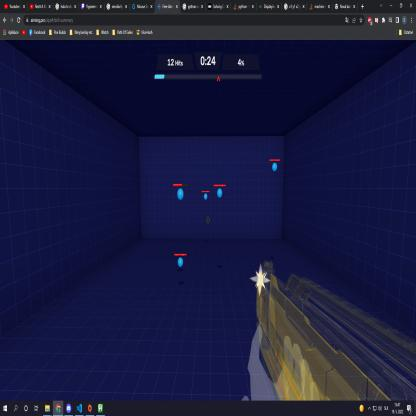sphere: (177, 188, 184, 200), (177, 257, 184, 268), (272, 162, 278, 173), (217, 188, 223, 199), (204, 192, 209, 200)
